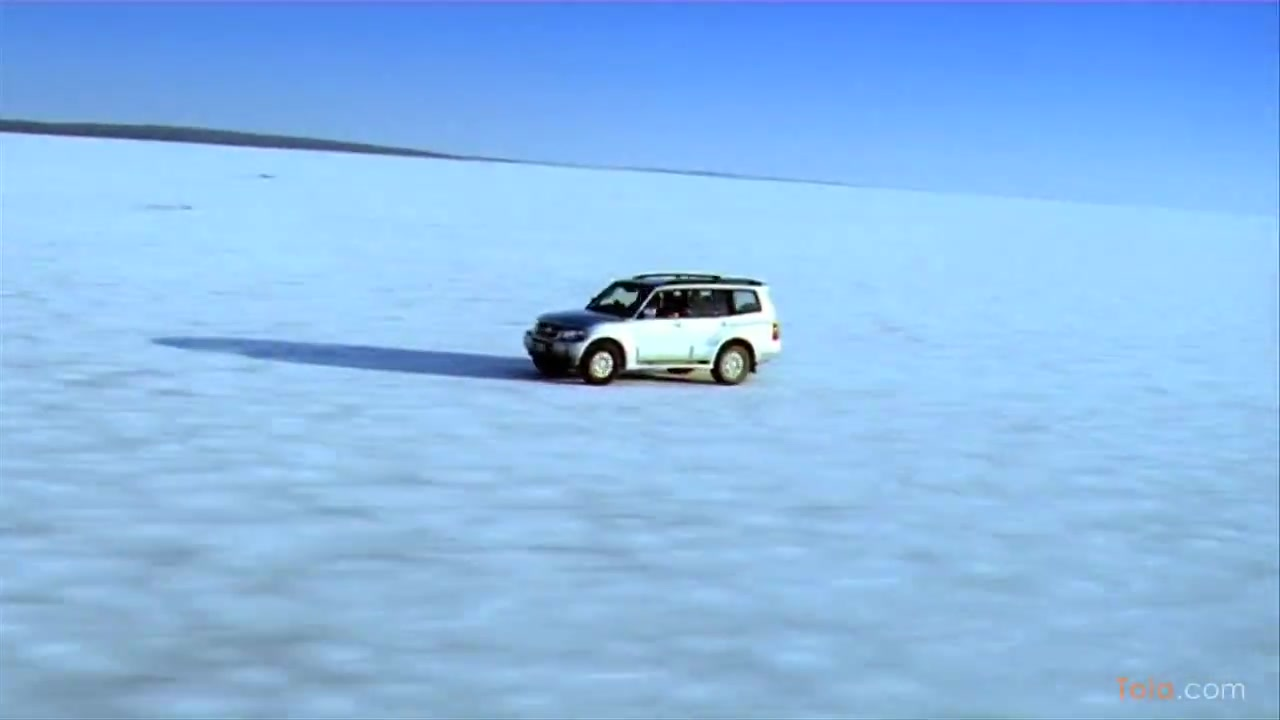car: (524, 272, 789, 394)
